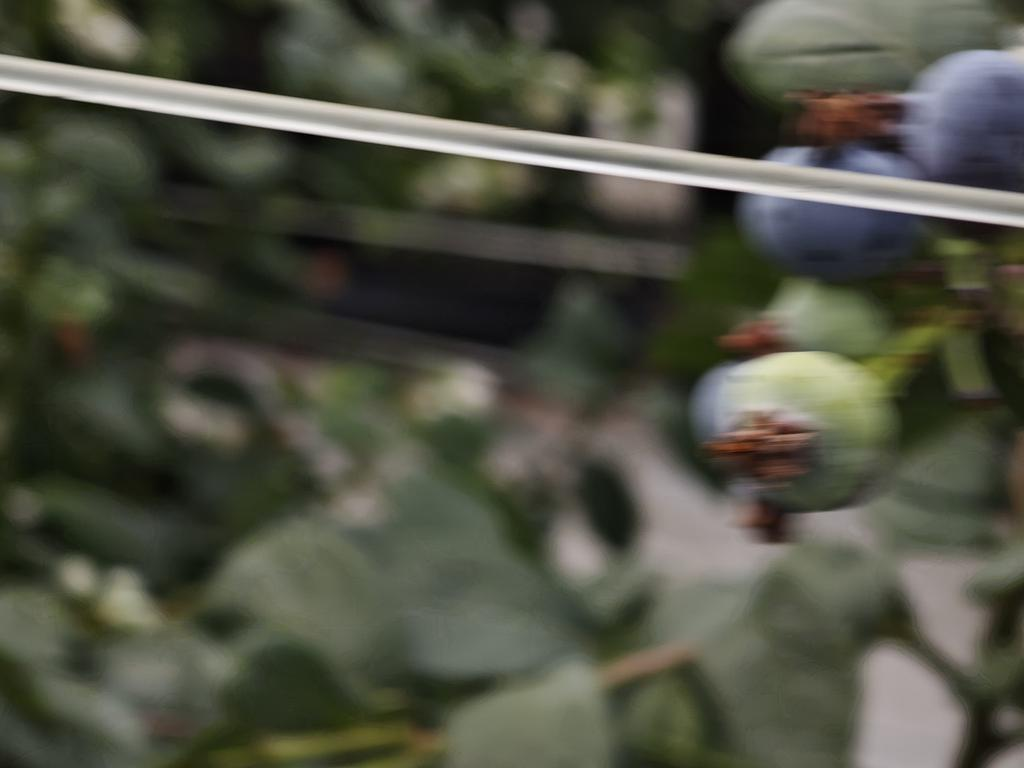RipeBlueBerry: (745, 143, 937, 274)
